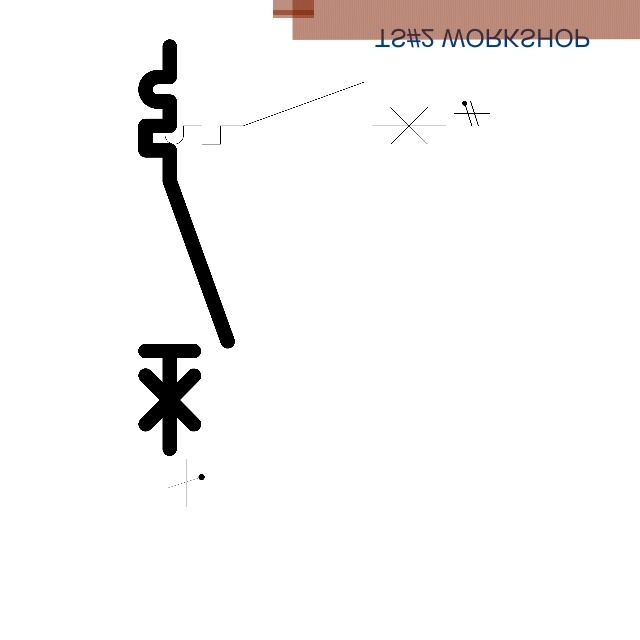interruptor_termomagnetico: (135, 36, 238, 459), (134, 74, 454, 152)
